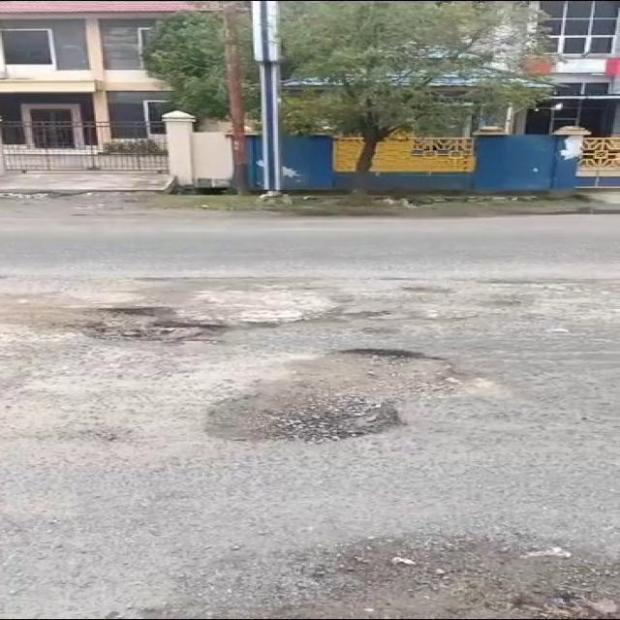lubang: (205, 350, 453, 441), (65, 308, 233, 343)
